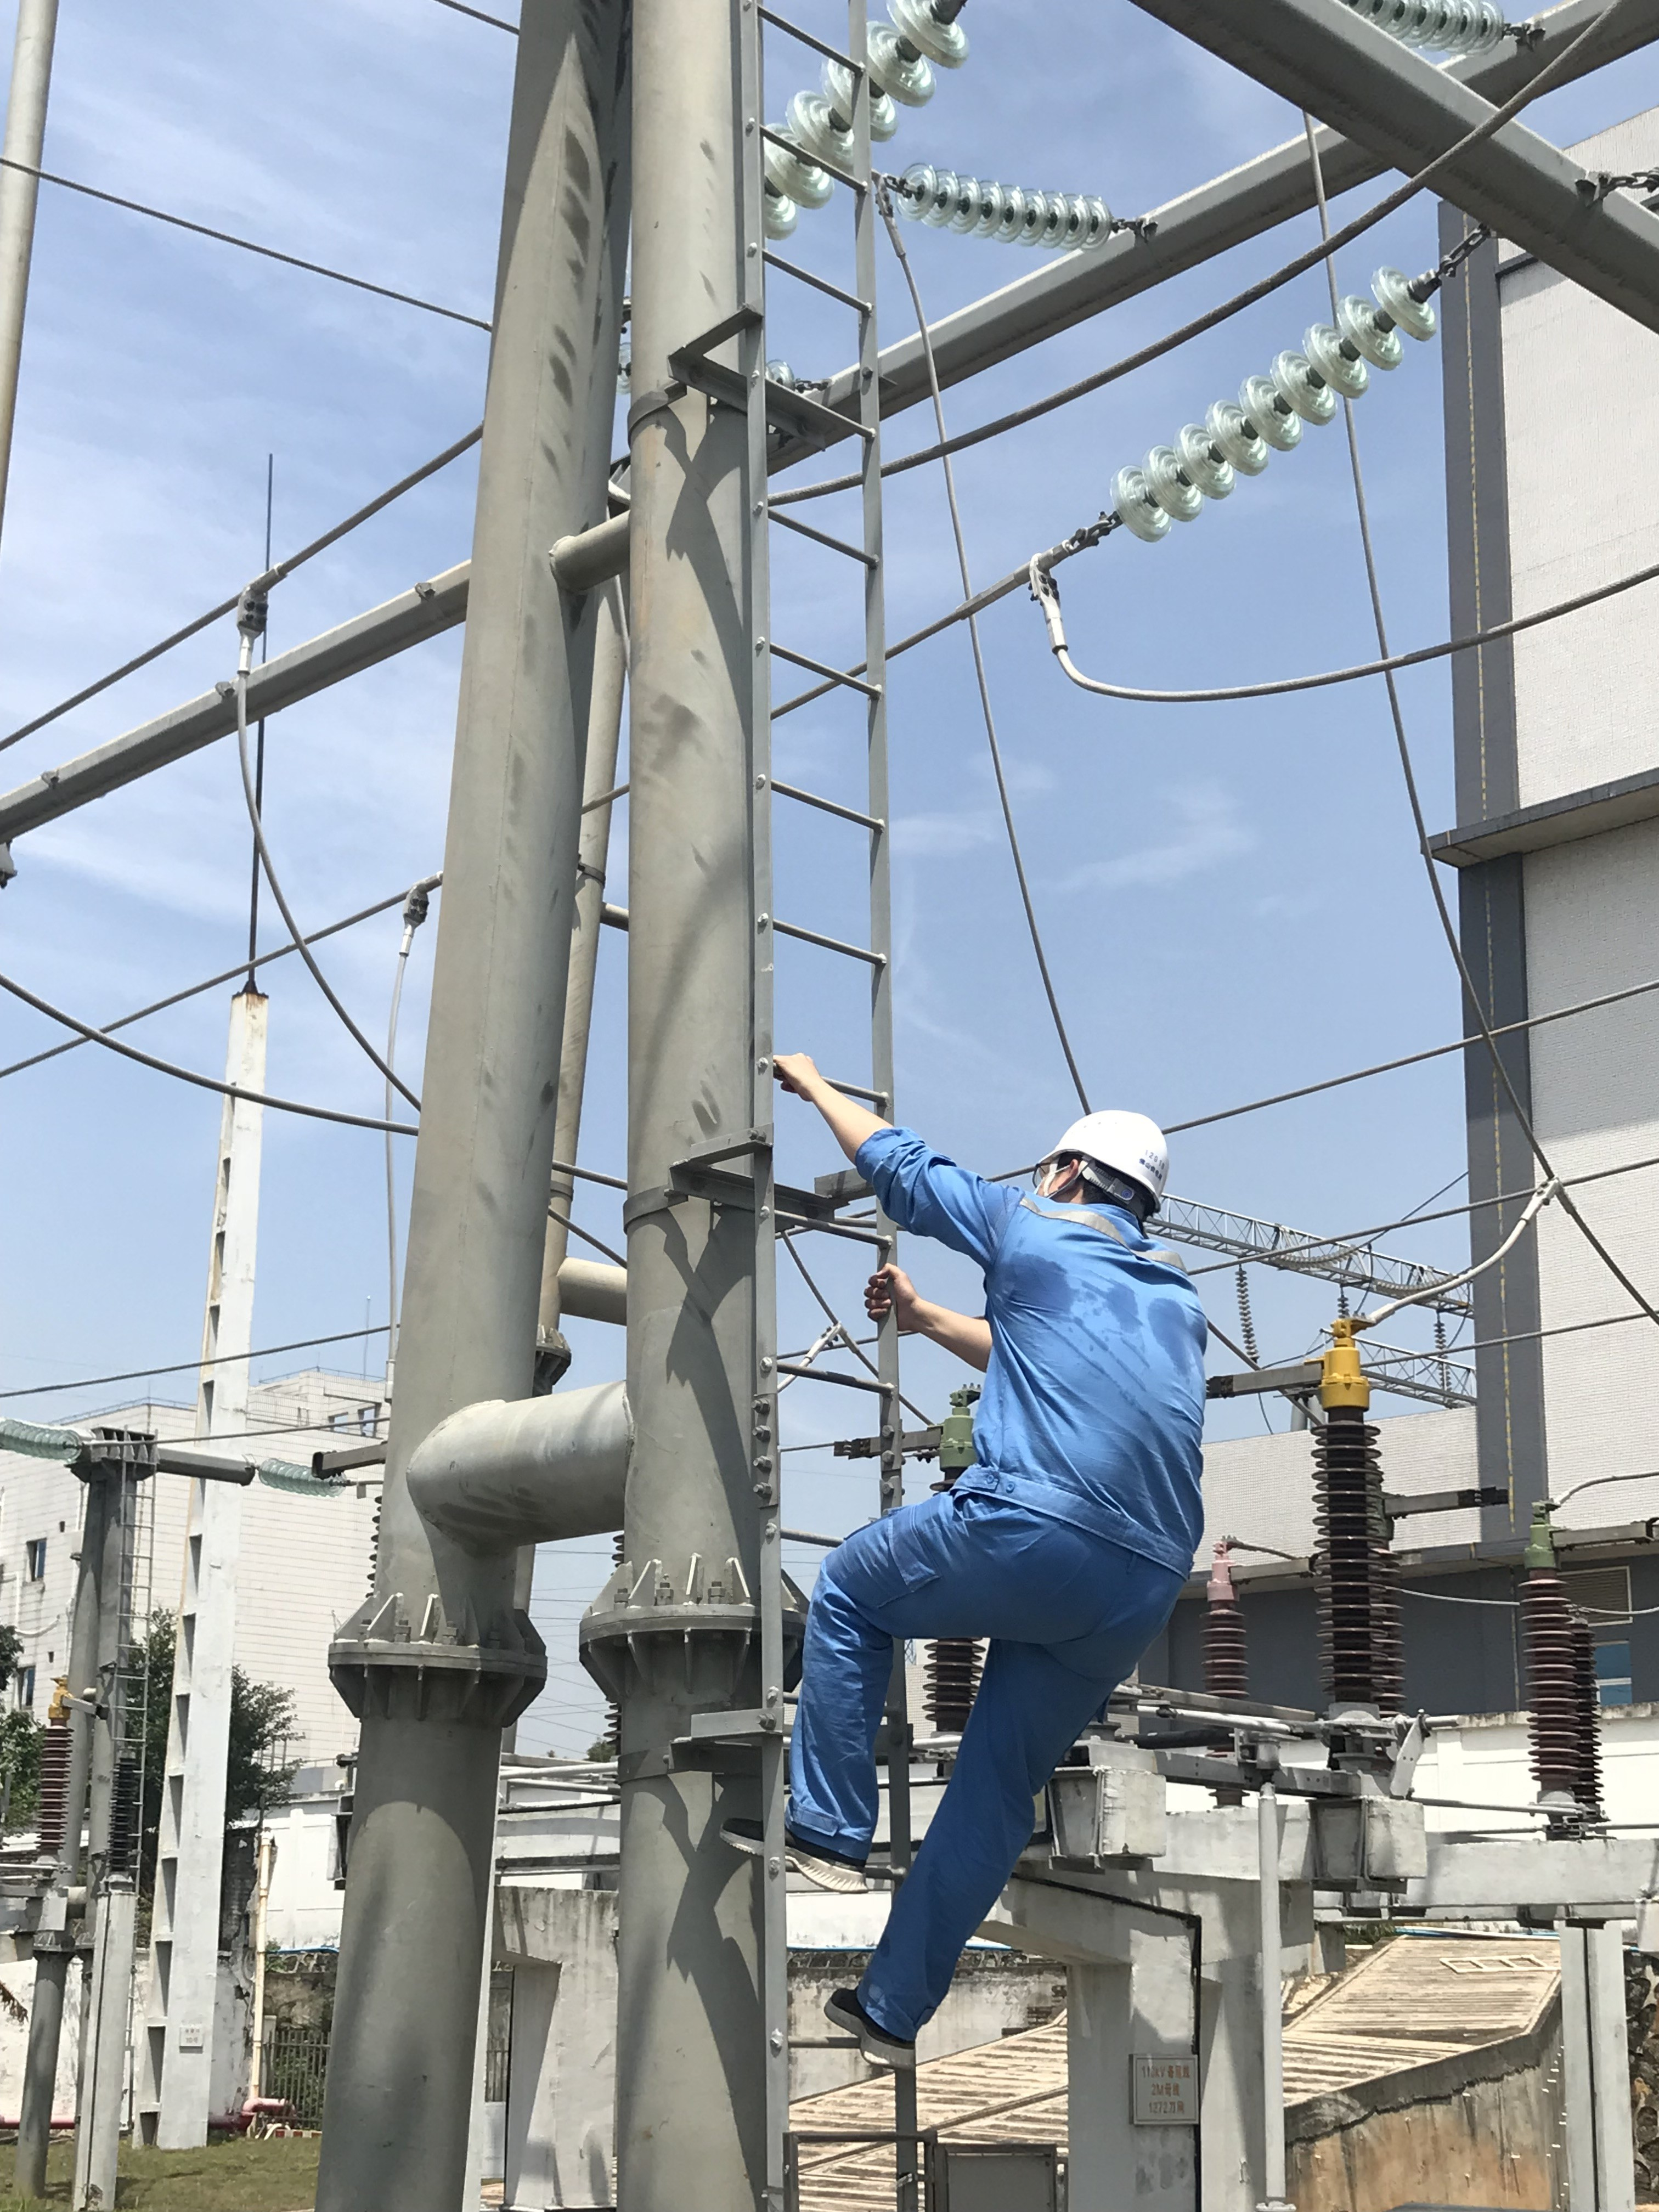downsuit: (775, 1554, 1208, 2031)
upsuit: (850, 1123, 1223, 1533)
wrongtop: (781, 1050, 927, 1195), (884, 1278, 992, 1372)
